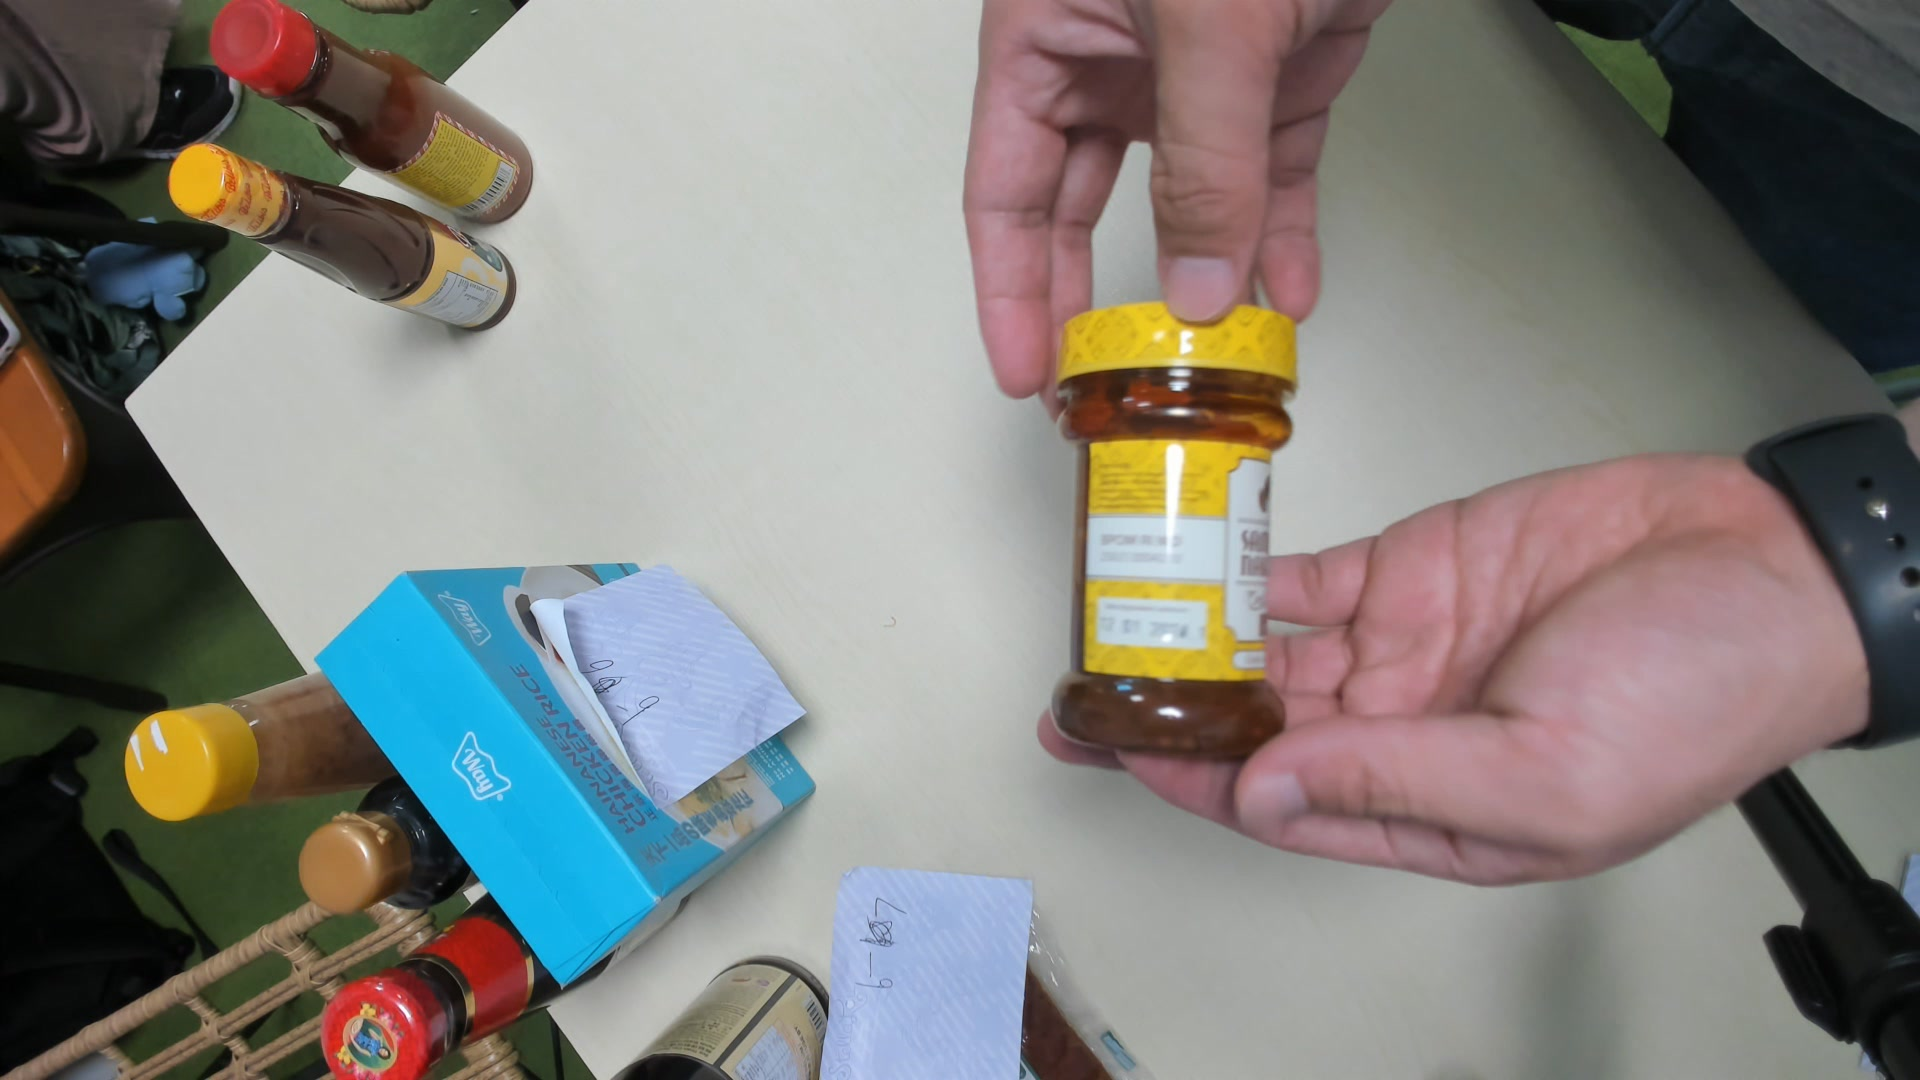KetchupChillSauce_100-199g_Halal_NonHealthy: (1044, 297, 1302, 764)
